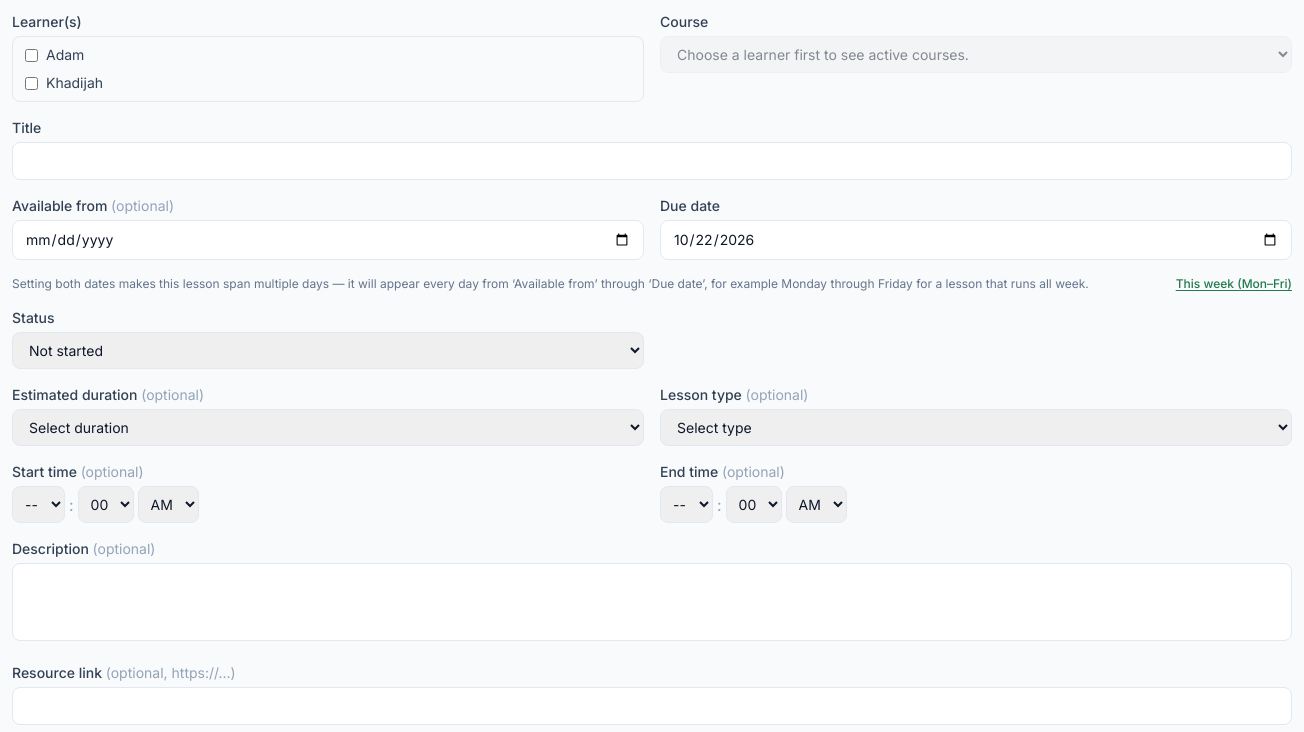
Test: LessonTaskForm — multi-day span clarity (item 3) › "This week (Mon–Fri)" quick-pick sets plannedStartDate/dueDate to that week's Monday–Friday range
This screenshot has width=1304, height=732.
Type "2026-05-13" into the date field labelled "Due date".
click(976, 240); type("2026-05-13")  # box [660,220,1292,260]
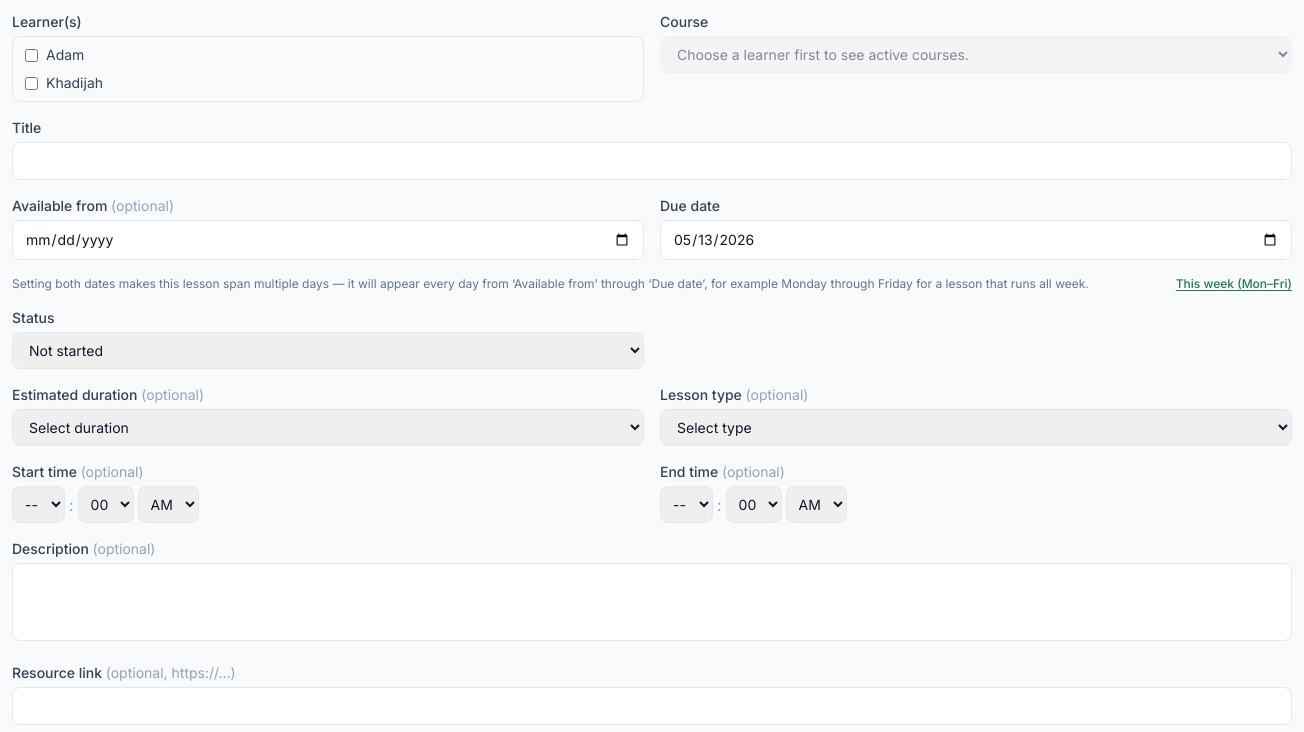
Click the button "This week (Mon–Fri)".
click(1234, 284)  # box [1176,276,1292,292]
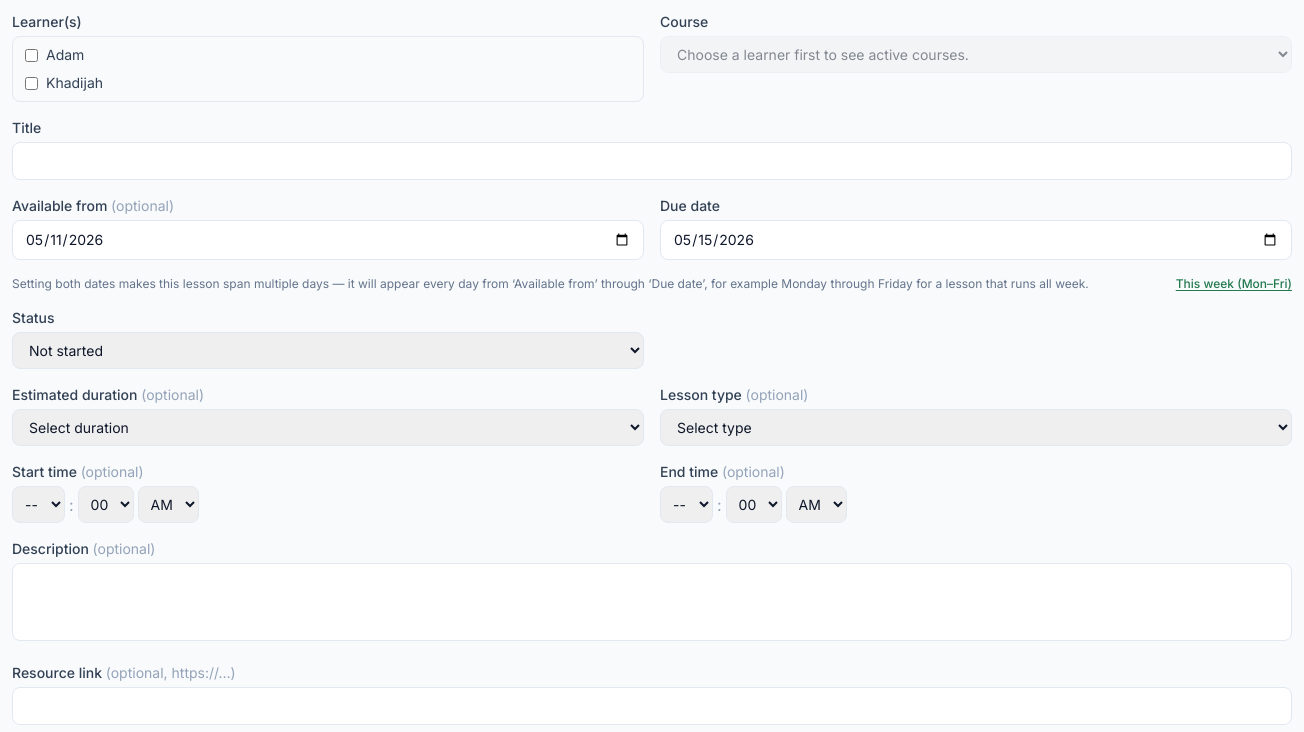
Now the date field labelled "Available from (optional)" holds "2026-05-11", box [12,220,644,260]
Now the date field labelled "Due date" holds "2026-05-15", box [660,220,1292,260]
